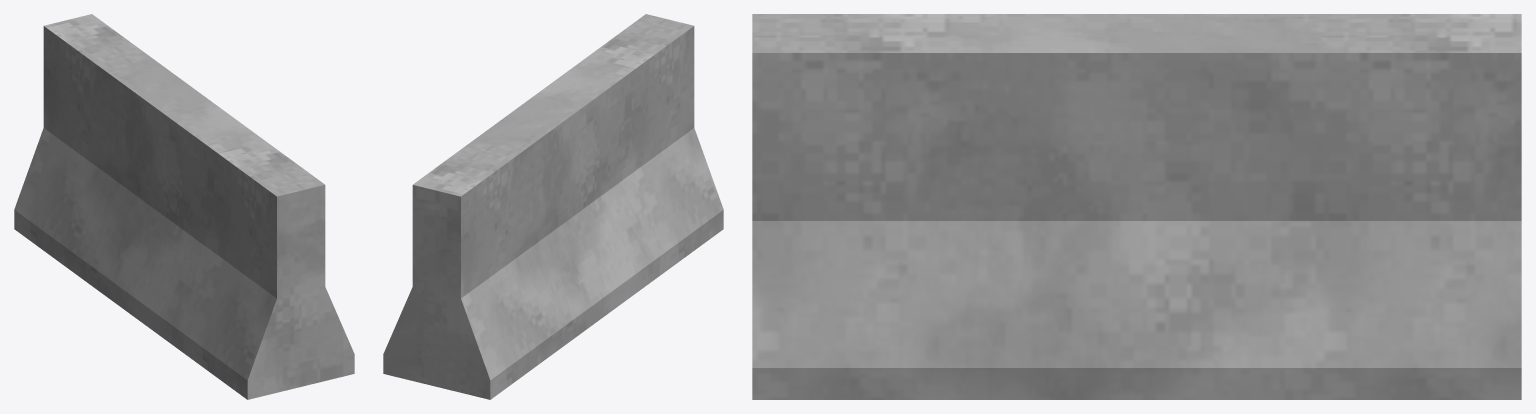
Rendered from Barrier_Small.fbx.
The picture shows the model from 3 angles, left to right: view 1: azimuth 30°, elevation 25°; view 2: azimuth 150°, elevation 25°; view 3: azimuth 270°, elevation 25°; orthographic projection. The views are drawn at different scales.
Visible parts, largest first — view 1: Barrier_Small; view 2: Barrier_Small; view 3: Barrier_Small.
Boxes of the visible parts, x1,y1,x2,y2 form: Barrier_Small: (14, 14, 354, 399); Barrier_Small: (383, 14, 723, 399); Barrier_Small: (752, 14, 1521, 399).
Size of what is drawn, in the model's own units: 79.53 by 139 by 300.
1 material, 1 textured.
